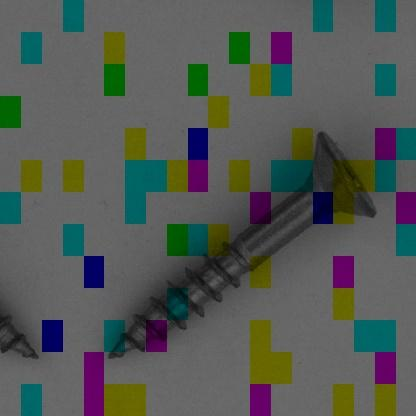metal: (107, 132, 378, 361)
